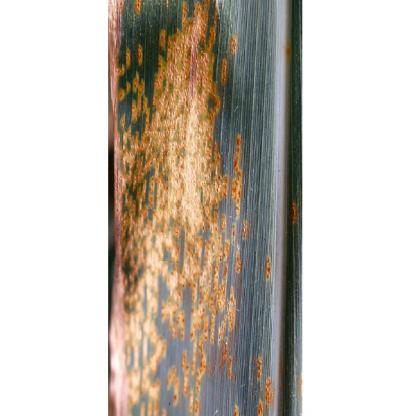corn rust leaf: (109, 2, 301, 415)
